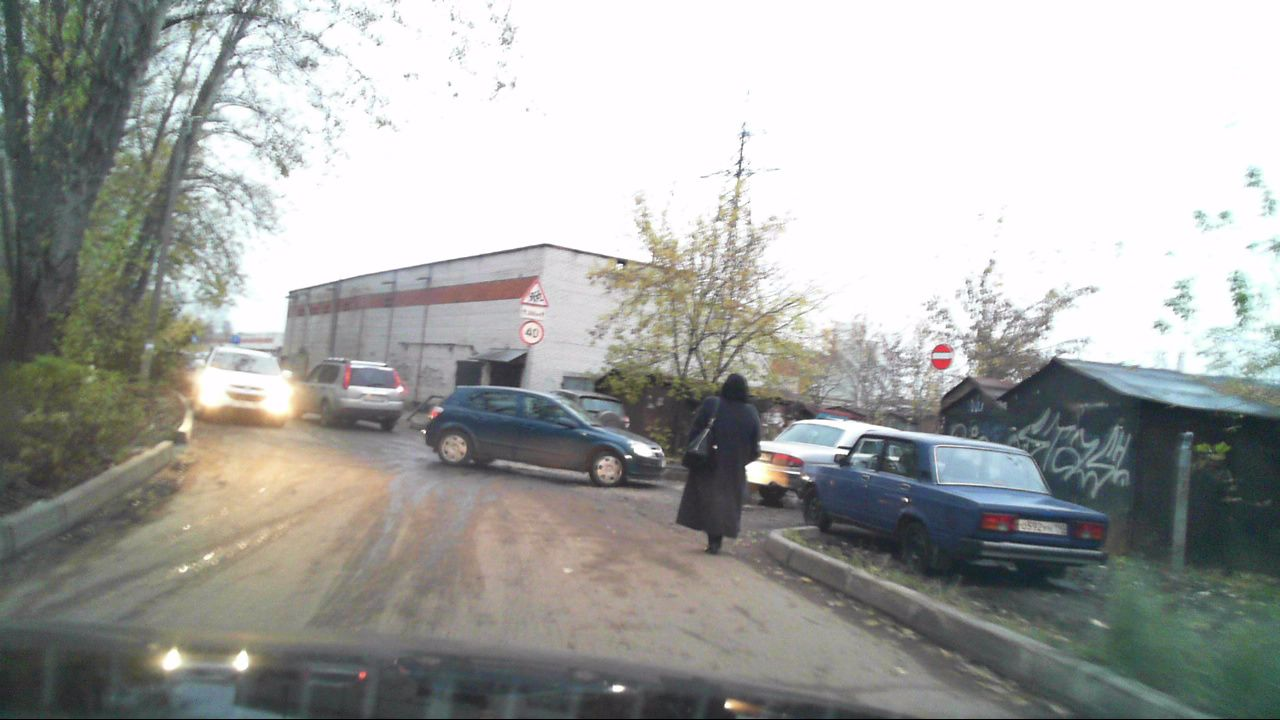speed_warning_40: (519, 321, 543, 344)
